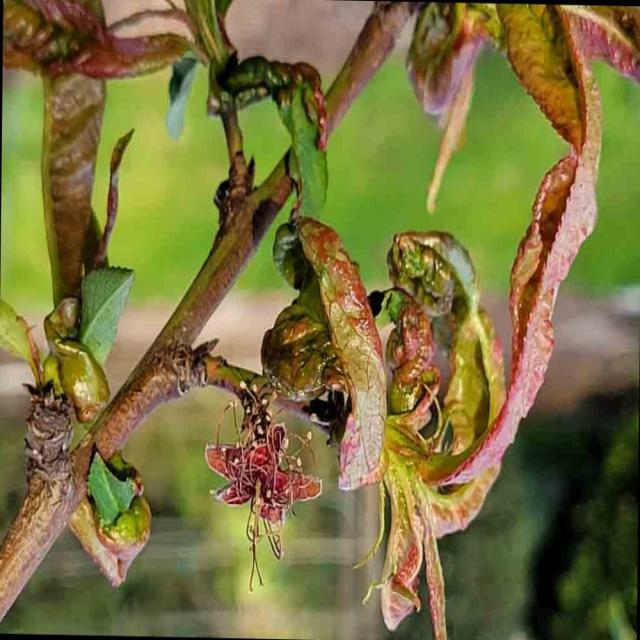peach_leaf_curl: (284, 195, 586, 618), (19, 256, 142, 432)
